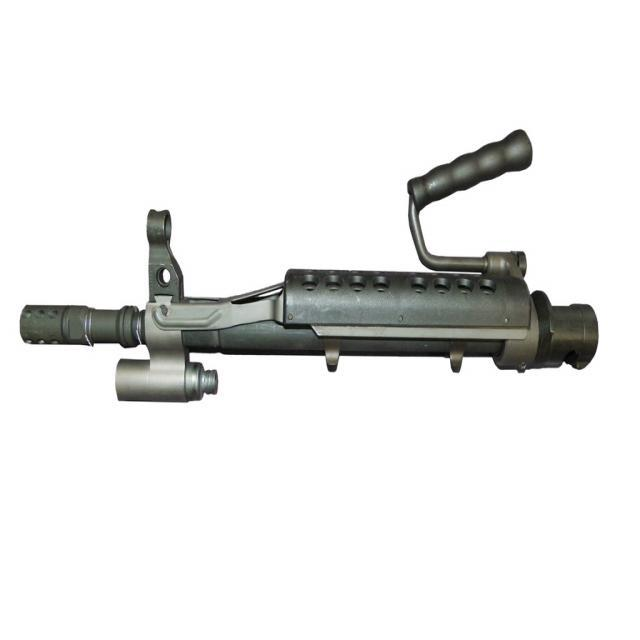weapon: (18, 185, 610, 462)
